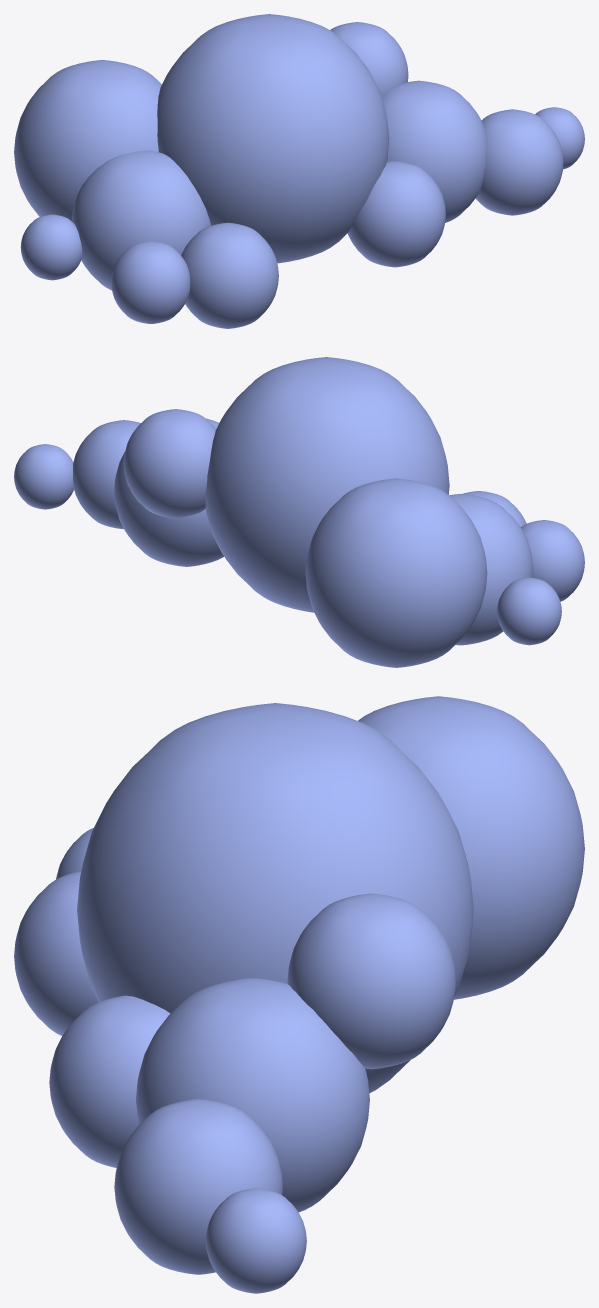
Rendered from Cloud_NightFBX_Hipoly.fbx.
The picture shows the model from 3 angles, top to bottom: view 1: azimuth 30°, elevation 25°; view 2: azimuth 150°, elevation 25°; view 3: azimuth 270°, elevation 25°; orthographic projection. The views are drawn at different scales.
Visible parts, largest first — view 1: Empty_Mesh; view 2: Empty_Mesh; view 3: Empty_Mesh.
Part boxes in pixels (x1=…): Empty_Mesh: x1=14, y1=14, x2=584, y2=328; Empty_Mesh: x1=14, y1=357, x2=584, y2=667; Empty_Mesh: x1=14, y1=696, x2=584, y2=1293.
Size of the model in its own units: 8.8 by 3.6 by 4.87.
